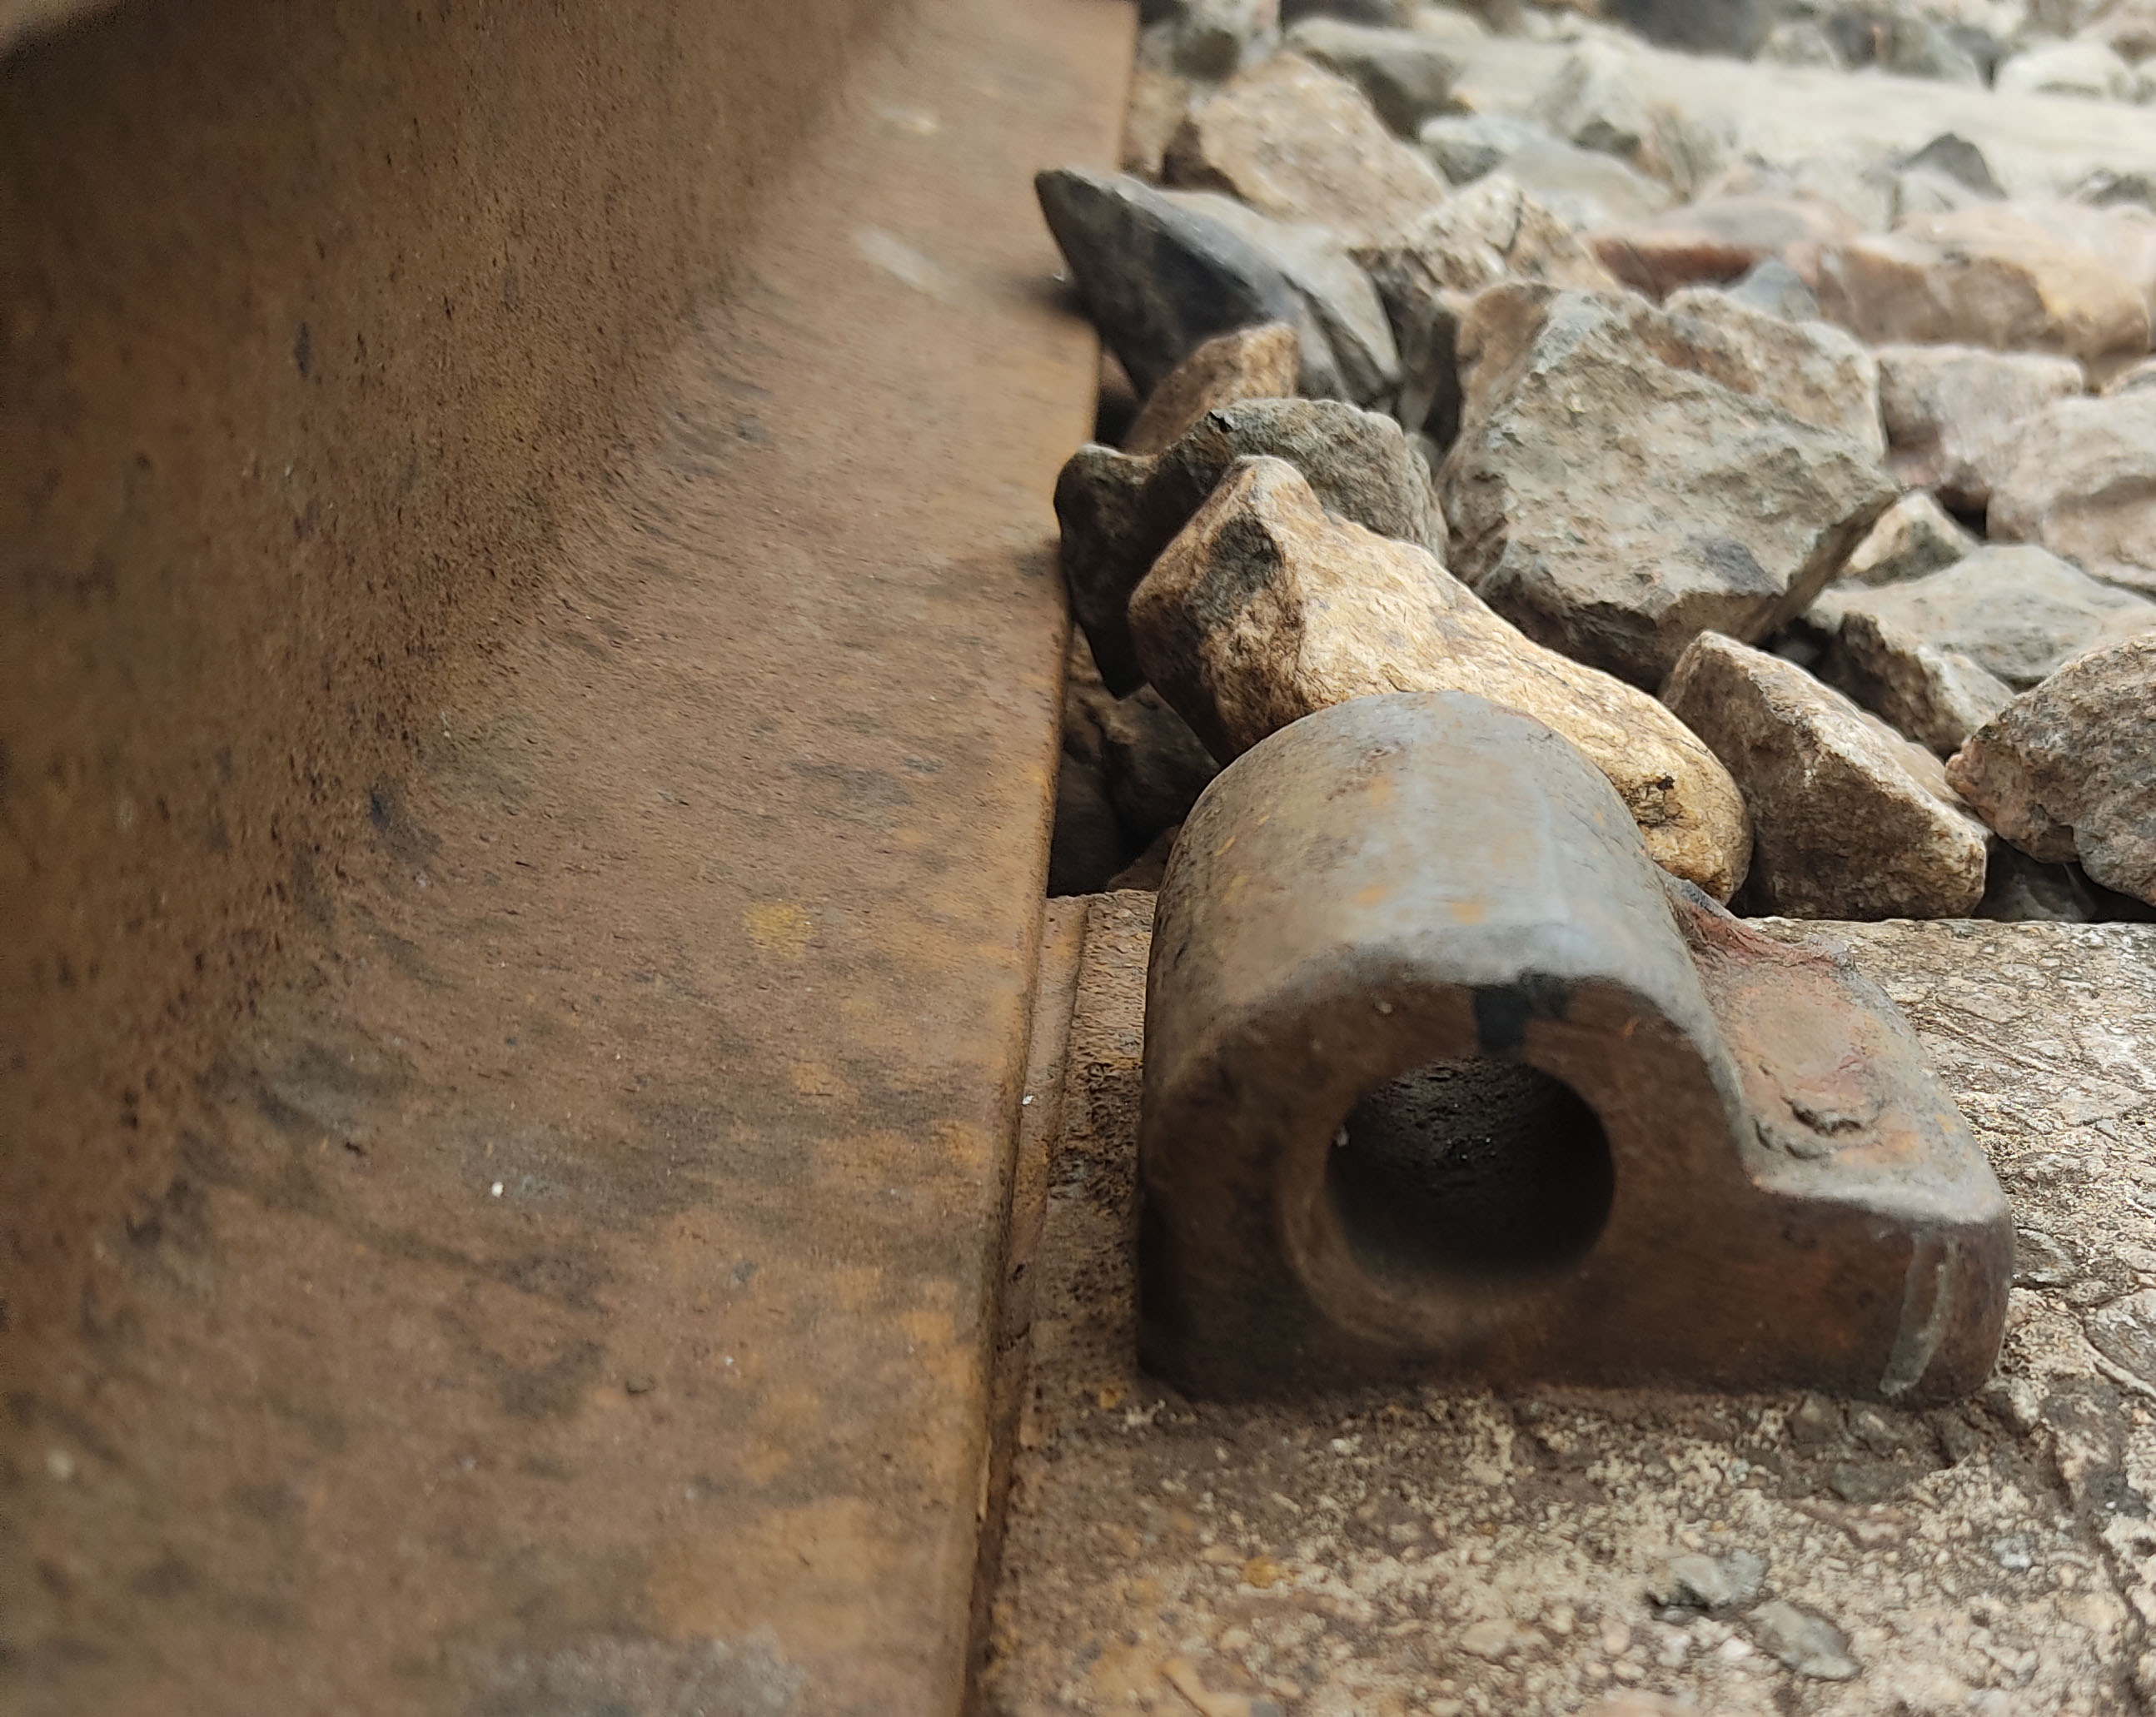error1: (1102, 764, 1998, 1402)
